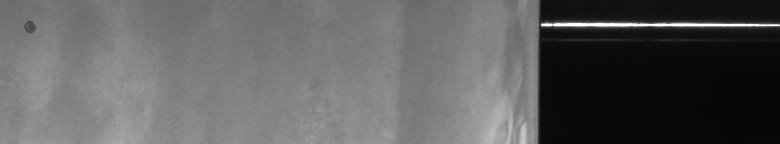fi: (20, 16, 40, 40)
